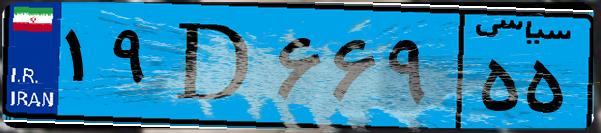1: (57, 26, 110, 100)
5: (475, 38, 525, 113), (525, 38, 570, 115)
6: (270, 28, 330, 110), (330, 28, 385, 110)
9: (385, 28, 445, 110), (110, 28, 158, 98)
D: (158, 12, 270, 120)
